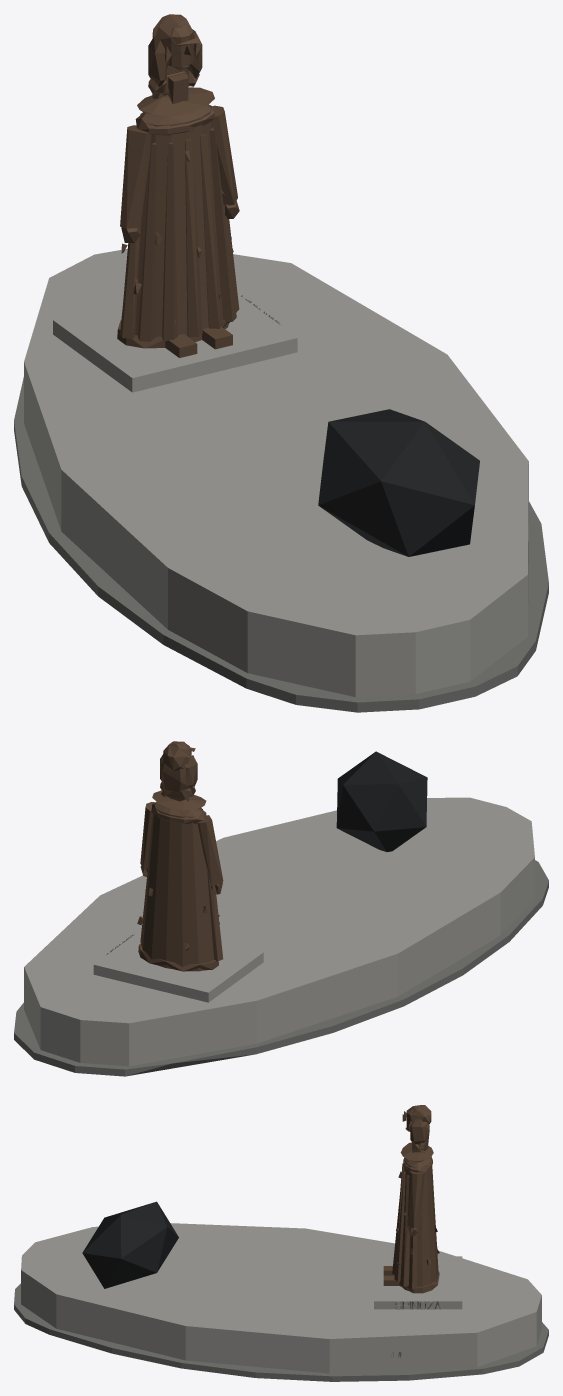
File: spinoza-standbeeld.lod1.glb
3 views of the same model, one above another, from view 1: azimuth 30°, elevation 25°; view 2: azimuth 150°, elevation 25°; view 3: azimuth 270°, elevation 25° (orthographic). The views are drawn at different scales.
Parts seen in each view (by area): view 1: spinoza-standbeeld; view 2: spinoza-standbeeld; view 3: spinoza-standbeeld.
Boxes of the visible parts, bbox=[...] form: spinoza-standbeeld: bbox=[14, 14, 548, 712]; spinoza-standbeeld: bbox=[14, 741, 548, 1076]; spinoza-standbeeld: bbox=[14, 1105, 548, 1381].
Size of the model in its own units: 3.25 by 2.76 by 6.05.
